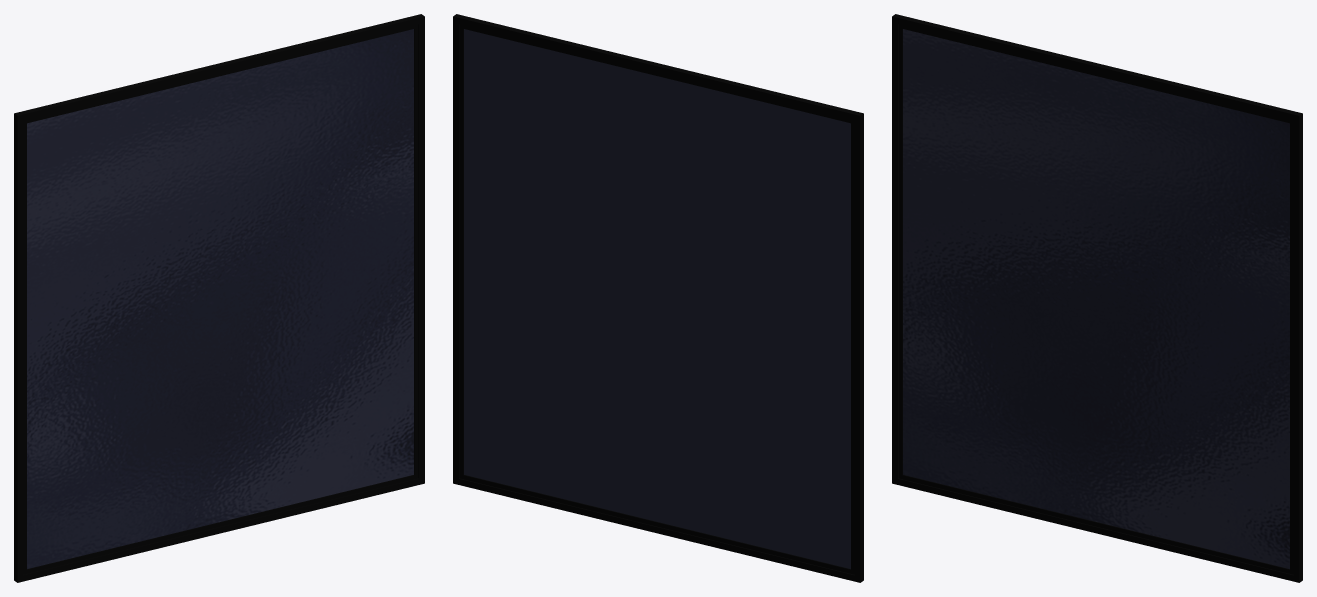
The model's file is Stair_Window_002.fbx.
3 views of the same model, side by side, from view 1: azimuth 30°, elevation 25°; view 2: azimuth 150°, elevation 25°; view 3: azimuth 330°, elevation 25° (orthographic).
Parts seen in each view (by area): view 1: Stair_Window_002; view 2: Stair_Window_002; view 3: Stair_Window_002.
Part boxes in pixels (<box>): Stair_Window_002: <box>14,14,424,582</box>; Stair_Window_002: <box>453,14,863,582</box>; Stair_Window_002: <box>892,14,1302,582</box>.
Bounding box in the file's own units: 199 × 218 × 2.9.
Materials: 2 (1 with a texture image).
